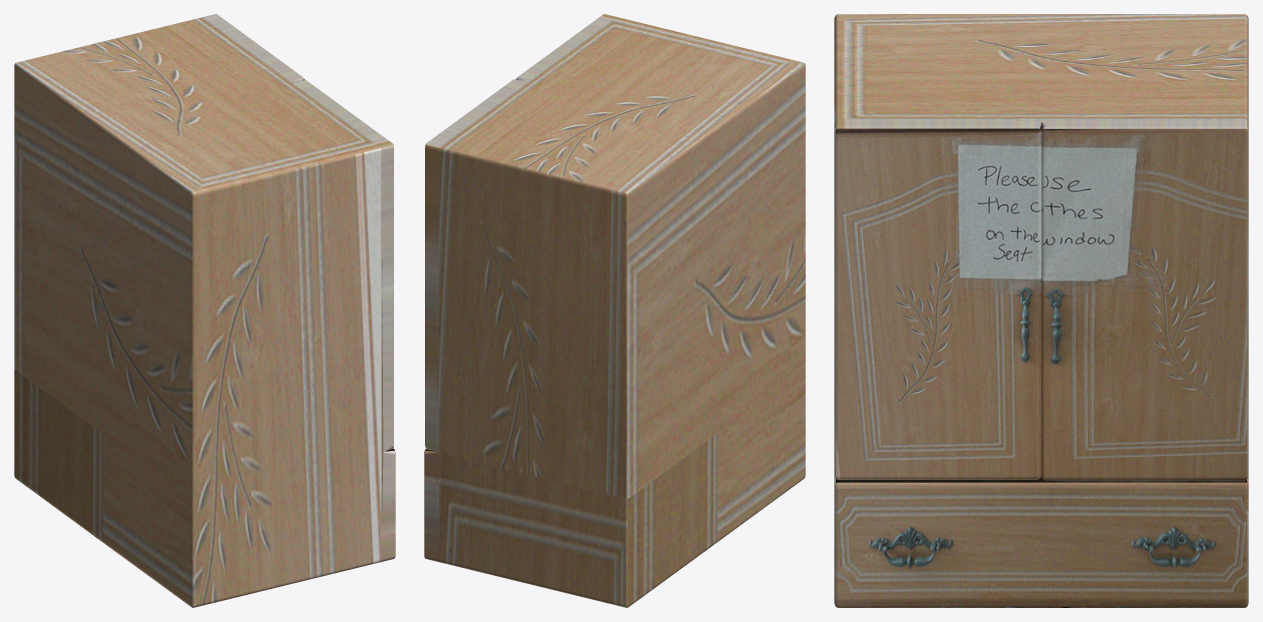
File: dressersmall.fbx
3 renders of one model, left to right at view 1: azimuth 30°, elevation 25°; view 2: azimuth 150°, elevation 25°; view 3: azimuth 270°, elevation 25°, orthographic. The views are drawn at different scales.
Visible parts, largest first — view 1: Cube; view 2: Cube; view 3: Cube.
Boxes of the visible parts, x1,y1,x2,y2 form: Cube: (14,14,395,607); Cube: (424,14,805,607); Cube: (834,14,1248,607).
Bounding box in the file's own units: 376 × 732 × 571.
